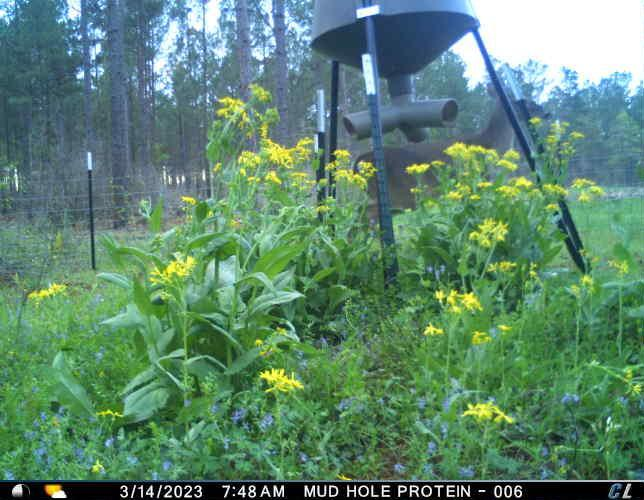Deer: (344, 78, 554, 241)
